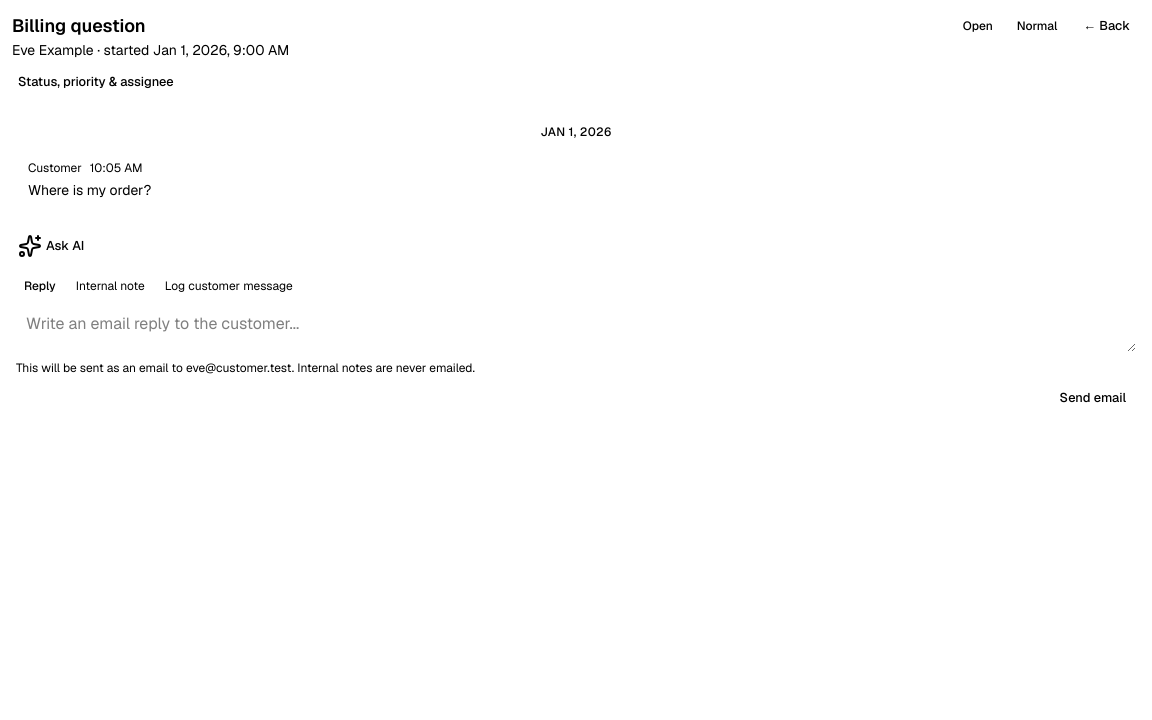
ConversationPane: replying by email › posts ONLY the text and a key to the email endpoint, then shows the persisted delivery state
Expected: the text "sent as an email to eve@customer.test" is shown, [16,360,475,376]
Type "Shipped today" into the text box. click: (576, 328)
box: [16,304,1136,352]
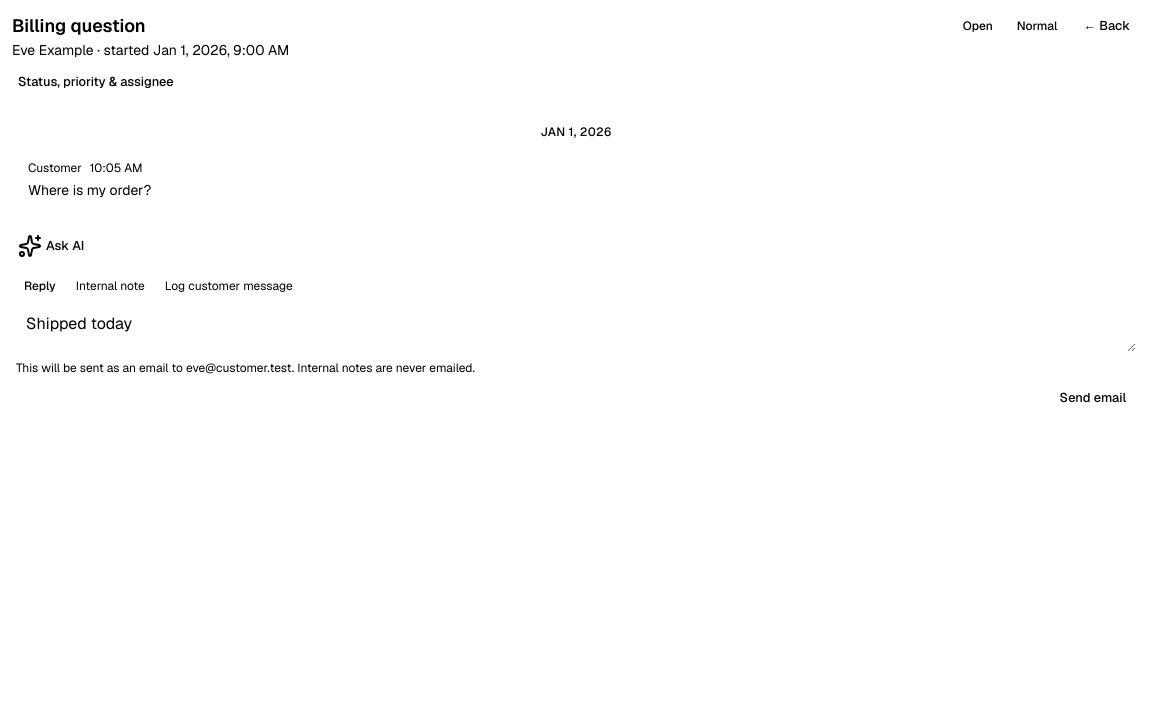
Click the button "Send email". click: (1093, 398)
box: [1050,384,1136,412]
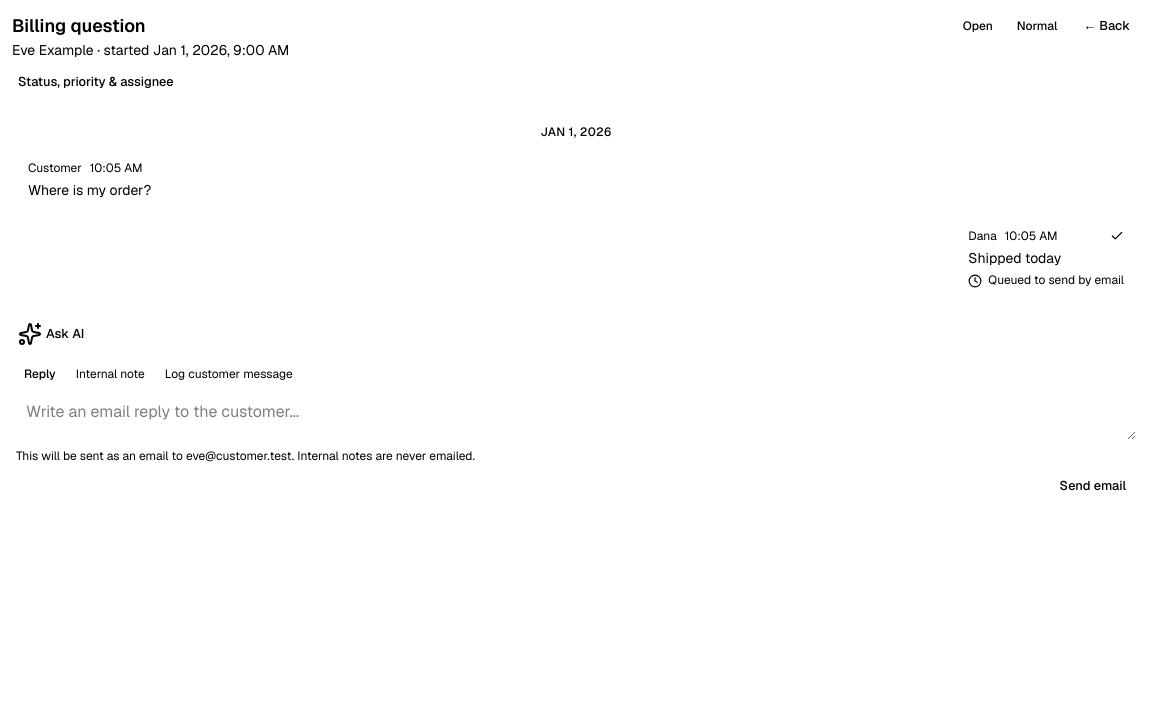
Expected: the message named "email delivery: queued" is shown, [968,272,1124,288]
Expected: the text "Shipped today" is shown once, [968,249,1061,267]
